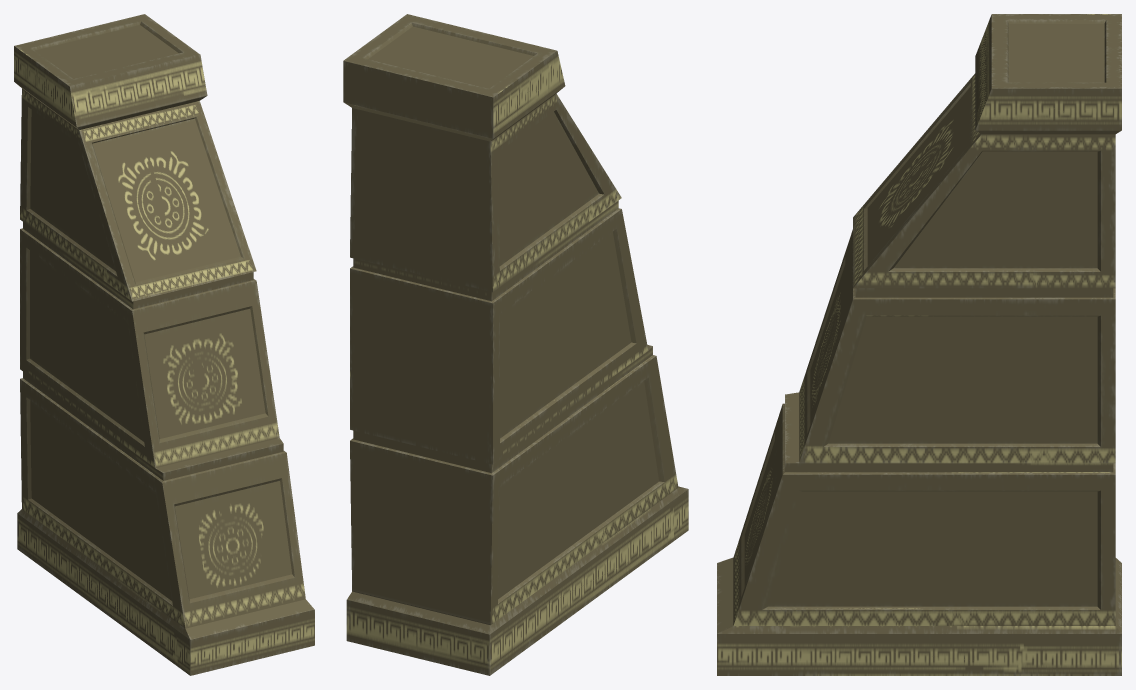
The model's file is RETAINING WALL.fbx.
3 views of the same model, side by side, from view 1: azimuth 30°, elevation 25°; view 2: azimuth 150°, elevation 25°; view 3: azimuth 270°, elevation 25° (orthographic). The views are drawn at different scales.
Parts seen in each view (by area): view 1: RETAINING WALL; view 2: RETAINING WALL; view 3: RETAINING WALL.
Part boxes in pixels (left/top/right/bottom): RETAINING WALL: left=14, top=14, right=314, bottom=675; RETAINING WALL: left=343, top=14, right=688, bottom=675; RETAINING WALL: left=717, top=14, right=1121, bottom=675.
Size of the model in its own units: 3.62 by 13.33 by 8.3.
